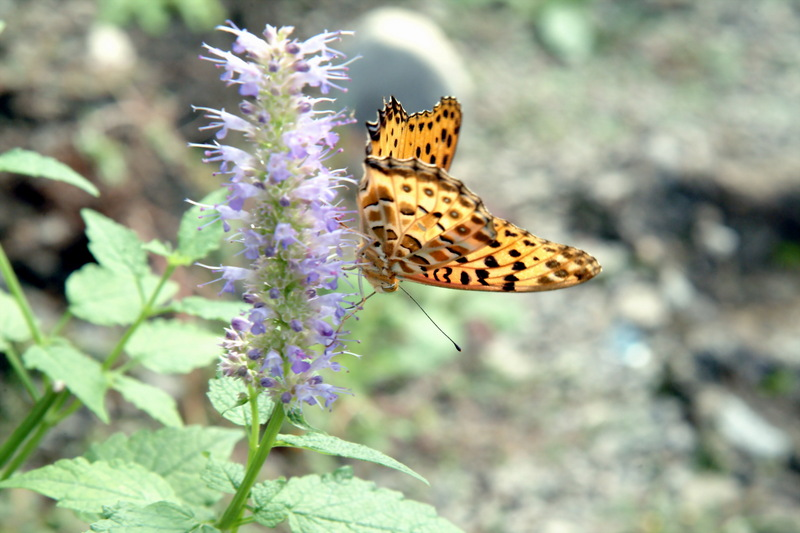Argyreus hyperbius: (323, 83, 605, 356)
butterfly: (325, 85, 607, 358)
